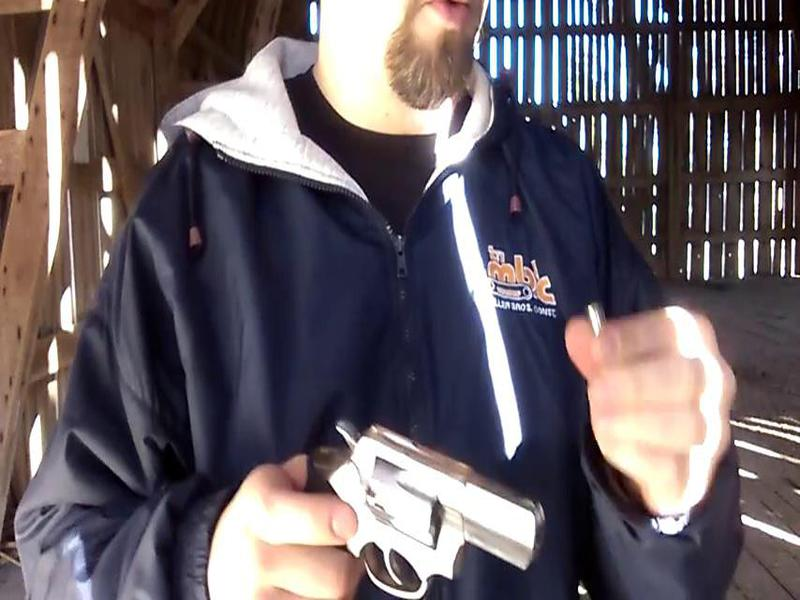Revolver: (303, 394, 552, 600)
